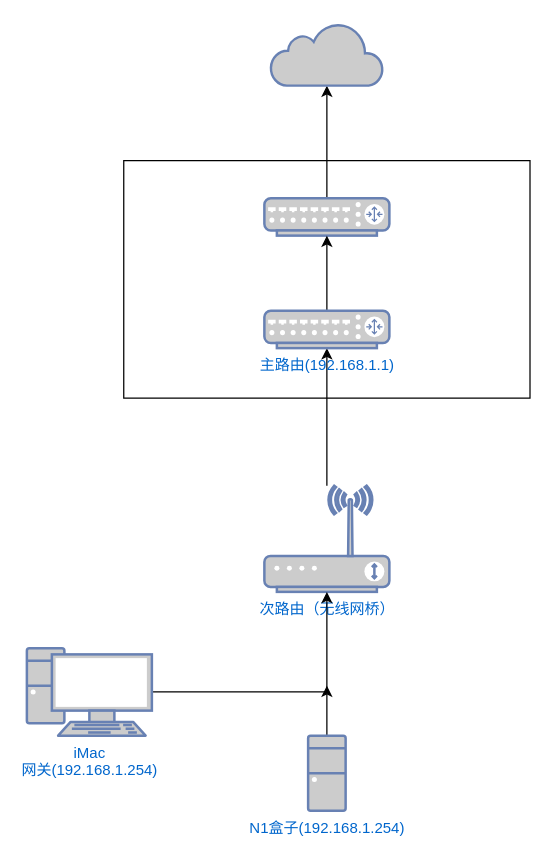
Image size: 553x858. Some labels were removed from this diagram. Each missing label, with the box of its shape:
光猫: (262, 196, 390, 236)
弱电箱: (122, 159, 530, 398)
